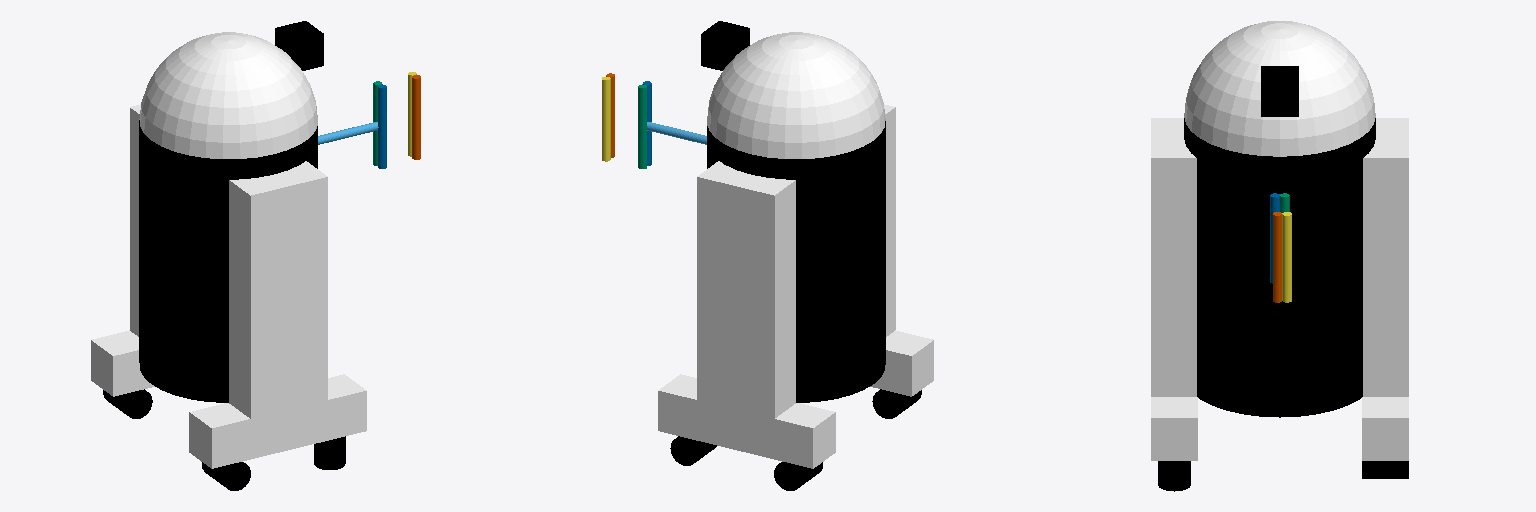
robot.urdf — visual:
<?xml version="1.0"?>
<robot name="visual">

  <material name="blue">
    <color rgba="0 0 0.0 1"/>
  </material>
  <material name="black">
    <color rgba="0 0 0 1"/>
  </material>
  <material name="white">
    <color rgba="1 1 1 1"/>
  </material>

  <link name="base_link">
    <visual>
      <geometry>
        <cylinder length="0.6" radius="0.2"/>
      </geometry>
      <material name="blue"/>
    </visual>
  </link>

  <link name="right_leg">
    <visual>
      <geometry>
        <box size="0.6 0.1 0.2"/>
      </geometry>
      <origin rpy="0 1.57075 0" xyz="0 0 -0.3"/>
      <material name="white"/>
    </visual>
  </link>

  <joint name="base_to_right_leg" type="fixed">
    <parent link="base_link"/>
    <child link="right_leg"/>
    <origin xyz="0 -0.22 0.25"/>
  </joint>

  <link name="right_base">
    <visual>
      <geometry>
        <box size="0.4 0.1 0.1"/>
      </geometry>
      <material name="white"/>
    </visual>
  </link>

  <joint name="right_base_joint" type="fixed">
    <parent link="right_leg"/>
    <child link="right_base"/>
    <origin xyz="0 0 -0.6"/>
  </joint>

  <link name="right_front_wheel">
    <visual>
      <origin rpy="1.57075 0 0" xyz="0 0 0"/>
      <geometry>
        <cylinder length="0.1" radius="0.035"/>
      </geometry>
      <material name="black"/>
      <origin rpy="0 0 0" xyz="0 0 0"/>
    </visual>
  </link>
  <joint name="right_front_wheel_joint" type="fixed">
    <parent link="right_base"/>
    <child link="right_front_wheel"/>
    <origin rpy="0 0 0" xyz="0.133333333333 0 -0.085"/>
  </joint>

  <link name="right_back_wheel">
    <visual>
      <origin rpy="1.57075 0 0" xyz="0 0 0"/>
      <geometry>
        <cylinder length="0.1" radius="0.035"/>
      </geometry>
      <material name="black"/>
    </visual>
  </link>
  <joint name="right_back_wheel_joint" type="fixed">
    <parent link="right_base"/>
    <child link="right_back_wheel"/>
    <origin rpy="0 0 0" xyz="-0.133333333333 0 -0.085"/>
  </joint>

  <link name="left_leg">
    <visual>
      <geometry>
        <box size="0.6 0.1 0.2"/>
      </geometry>
      <origin rpy="0 1.57075 0" xyz="0 0 -0.3"/>
      <material name="white"/>
    </visual>
  </link>

  <joint name="base_to_left_leg" type="fixed">
    <parent link="base_link"/>
    <child link="left_leg"/>
    <origin xyz="0 0.22 0.25"/>
  </joint>

  <link name="left_base">
    <visual>
      <geometry>
        <box size="0.4 0.1 0.1"/>
      </geometry>
      <material name="white"/>
    </visual>
  </link>

  <joint name="left_base_joint" type="fixed">
    <parent link="left_leg"/>
    <child link="left_base"/>
    <origin xyz="0 0 -0.6"/>
  </joint>

  <link name="left_front_wheel">
    <visual>
      <origin rpy="1.57075 0 0" xyz="0 0 0"/>
      <geometry>
        <cylinder length="0.1" radius="0.035"/>
      </geometry>
      <material name="black"/>
    </visual>
  </link>
  <joint name="left_front_wheel_joint" type="fixed">
    <parent link="left_base"/>
    <child link="left_front_wheel"/>
    <origin rpy="0 0 0" xyz="0.133333333333 0 -0.085"/>
  </joint>

  <link name="left_back_wheel">
    <visual>
      <origin rpy="1.57075 0 0" xyz="0 0 0"/>
      <geometry>
        <cylinder length="0.1" radius="0.035"/>
      </geometry>
      <material name="black"/>
    </visual>
  </link>
  <joint name="left_back_wheel_joint" type="fixed">
    <parent link="left_base"/>
    <child link="left_back_wheel"/>
    <origin rpy="0 0 0" xyz="-0.133333333333 0 -0.085"/>
  </joint>

  <joint name="gripper_extension" type="fixed">
    <parent link="base_link"/>
    <child link="gripper_pole"/>
    <origin rpy="0 0 0" xyz="0.19 0 0.2"/>
  </joint>

  <link name="gripper_pole">
    <visual>
      <geometry>
        <cylinder length="0.2" radius="0.01"/>
      </geometry>
      <origin rpy="0 1.57075 0 " xyz="0.1 0 0"/>
    </visual>
  </link>

  <joint name="left_gripper_joint" type="fixed">
    <origin rpy="0 0 0" xyz="0.2 0.01 0"/>
    <parent link="gripper_pole"/>
    <child link="left_gripper"/>
  </joint>

  <link name="left_gripper">
    <visual>
      <origin rpy="0.0 0 0" xyz="0 0 0"/>
      <geometry>
        <cylinder length="0.2" radius="0.01"/>
      </geometry>
    </visual>
  </link>

  <joint name="left_tip_joint" type="fixed">
    <parent link="left_gripper"/>
    <child link="left_tip"/>
  </joint>

  <link name="left_tip">
    <visual>
      <origin rpy="0.0 0 0" xyz="0.09137 0.00495 0"/>
      <geometry>
        <cylinder length="0.2" radius="0.01"/>
      </geometry>
    </visual>
  </link>
  <joint name="right_gripper_joint" type="fixed">
    <origin rpy="0 0 0" xyz="0.2 -0.01 0"/>
    <parent link="gripper_pole"/>
    <child link="right_gripper"/>
  </joint>

  <link name="right_gripper">
    <visual>
      <origin rpy="-3.1415 0 0" xyz="0 0 0"/>
      <geometry>
        <cylinder length="0.2" radius="0.01"/>
      </geometry>
    </visual>
  </link>

  <joint name="right_tip_joint" type="fixed">
    <parent link="right_gripper"/>
    <child link="right_tip"/>
  </joint>

  <link name="right_tip">
    <visual>
      <origin rpy="-3.1415 0 0" xyz="0.09137 0.00495 0"/>
      <geometry>
        <cylinder length="0.2" radius="0.01"/>
      </geometry>
    </visual>
  </link>

  <link name="head">
    <visual>
      <geometry>
        <sphere radius="0.2"/>
      </geometry>
      <material name="white"/>
    </visual>
  </link>
  <joint name="head_swivel" type="fixed">
    <parent link="base_link"/>
    <child link="head"/>
    <origin xyz="0 0 0.3"/>
  </joint>

  <link name="box">
    <visual>
      <geometry>
        <box size="0.08 0.08 0.08"/>
      </geometry>
      <material name="blue"/>
    </visual>
  </link>

  <joint name="tobox" type="fixed">
    <parent link="head"/>
    <child link="box"/>
    <origin xyz="0.1814 0 0.1414"/>
  </joint>
</robot>

--- Render facts (derived) ---
Views: 3 orthographic renders of the robot side by side, from view 1: azimuth 30°, elevation 25°; view 2: azimuth 150°, elevation 25°; view 3: azimuth 270°, elevation 25°.
Robot: visual — 16 links, 15 joints (15 fixed); root link base_link; default pose: all joints at 0.
Visible links, largest first — view 1: base_link, right_leg, head, right_base, left_base, left_leg, box, right_front_wheel, left_back_wheel, right_back_wheel, right_tip, right_gripper (+1 smaller); view 2: left_leg, base_link, head, left_base, right_base, right_leg, box, right_back_wheel, left_back_wheel, left_front_wheel, left_tip, left_gripper (+1 smaller); view 3: base_link, head, right_leg, left_leg, right_base, left_base, box, right_front_wheel, left_tip, left_front_wheel, right_tip.
Boxes of the visible links, bbox=[...] form: base_link: bbox=[139, 120, 317, 402]; right_leg: bbox=[229, 161, 327, 432]; head: bbox=[139, 32, 317, 158]; right_base: bbox=[189, 374, 366, 468]; left_base: bbox=[91, 330, 154, 396]; left_leg: bbox=[130, 104, 140, 336]; box: bbox=[275, 21, 323, 70]; right_front_wheel: bbox=[314, 436, 345, 469]; left_back_wheel: bbox=[103, 389, 152, 418]; right_back_wheel: bbox=[202, 462, 250, 490]; right_tip: bbox=[412, 75, 420, 159]; right_gripper: bbox=[378, 84, 386, 168]; left_leg: bbox=[697, 161, 795, 438]; base_link: bbox=[707, 121, 885, 402]; head: bbox=[707, 32, 885, 158]; left_base: bbox=[658, 374, 835, 468]; right_base: bbox=[870, 330, 933, 396]; right_leg: bbox=[884, 104, 895, 336]; box: bbox=[701, 21, 749, 70]; right_back_wheel: bbox=[872, 389, 921, 418]; left_back_wheel: bbox=[774, 462, 822, 490]; left_front_wheel: bbox=[670, 436, 716, 465]; left_tip: bbox=[602, 77, 610, 161]; left_gripper: bbox=[638, 84, 646, 168]; base_link: bbox=[1184, 118, 1375, 417]; head: bbox=[1184, 21, 1375, 156]; right_leg: bbox=[1151, 118, 1196, 396]; left_leg: bbox=[1363, 118, 1408, 396]; right_base: bbox=[1151, 397, 1197, 460]; left_base: bbox=[1362, 397, 1408, 460]; box: bbox=[1261, 66, 1298, 116]; right_front_wheel: bbox=[1158, 461, 1190, 491]; left_tip: bbox=[1282, 212, 1291, 302]; left_front_wheel: bbox=[1362, 461, 1408, 478]; right_tip: bbox=[1273, 212, 1281, 302].
Size in the robot's own frame: 0.6914 by 0.54 by 0.985 metres.
Geometry: primitives only (box / cylinder / sphere), no mesh files.